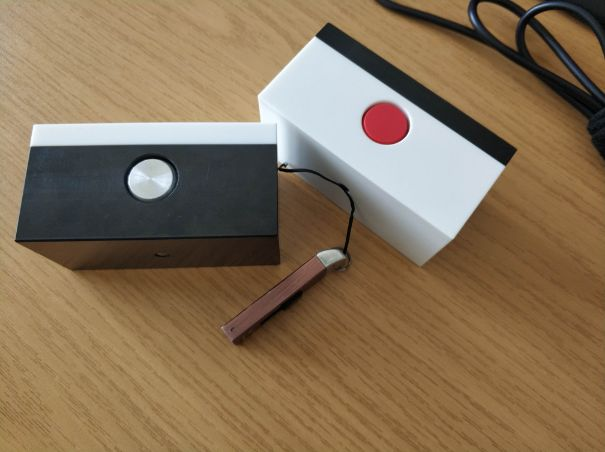black+white+red: (254, 21, 519, 269)
white+black+silver: (12, 120, 283, 274)
